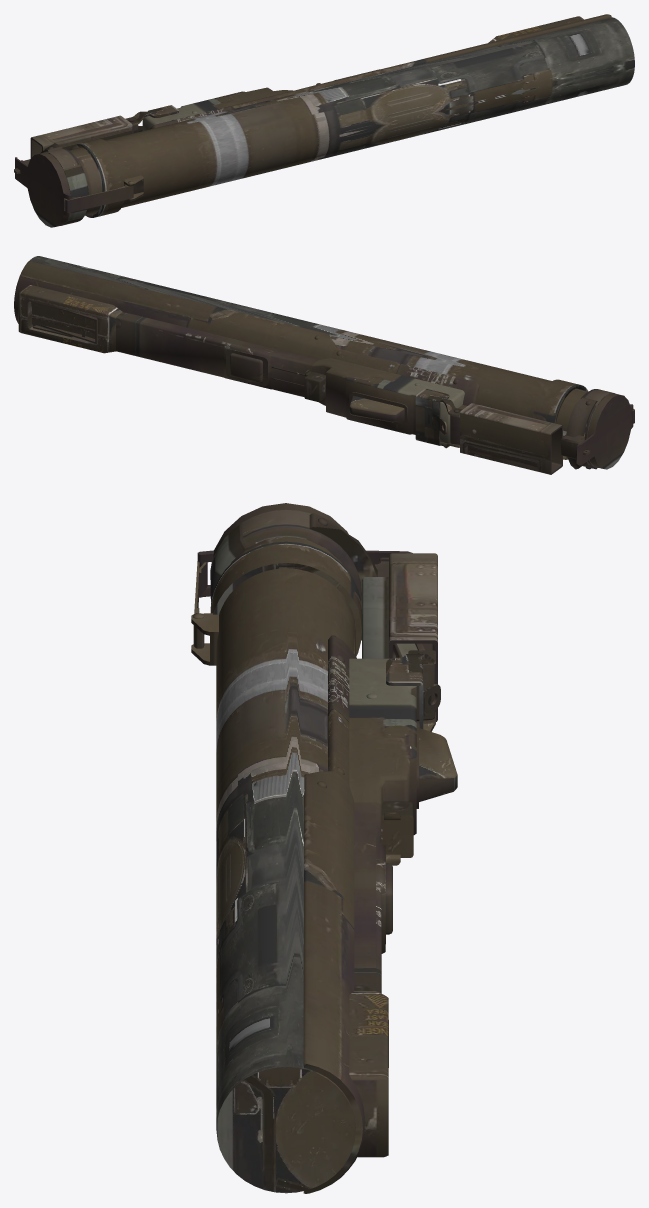
File: t5_weapon_law_stow.glb
3 views of the same model, one above another, from view 1: azimuth 30°, elevation 25°; view 2: azimuth 150°, elevation 25°; view 3: azimuth 270°, elevation 25° (orthographic). The views are drawn at different scales.
Parts seen in each view (by area): view 1: t5_weapon_law_stow; view 2: t5_weapon_law_stow; view 3: t5_weapon_law_stow.
Boxes of the visible parts, left/top/right/bottom form: t5_weapon_law_stow: left=14, top=14, right=634, bottom=227; t5_weapon_law_stow: left=14, top=256, right=634, bottom=474; t5_weapon_law_stow: left=191, top=503, right=457, bottom=1193.
Bounding box in the file's own units: 0.5878 × 0.0669 × 0.1178.
Materials: 1 (1 with a texture image).
